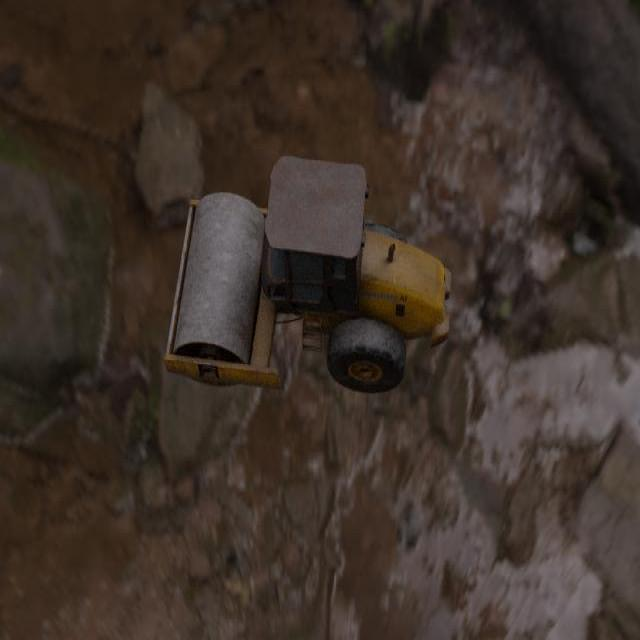Roller: (163, 155, 451, 393)
